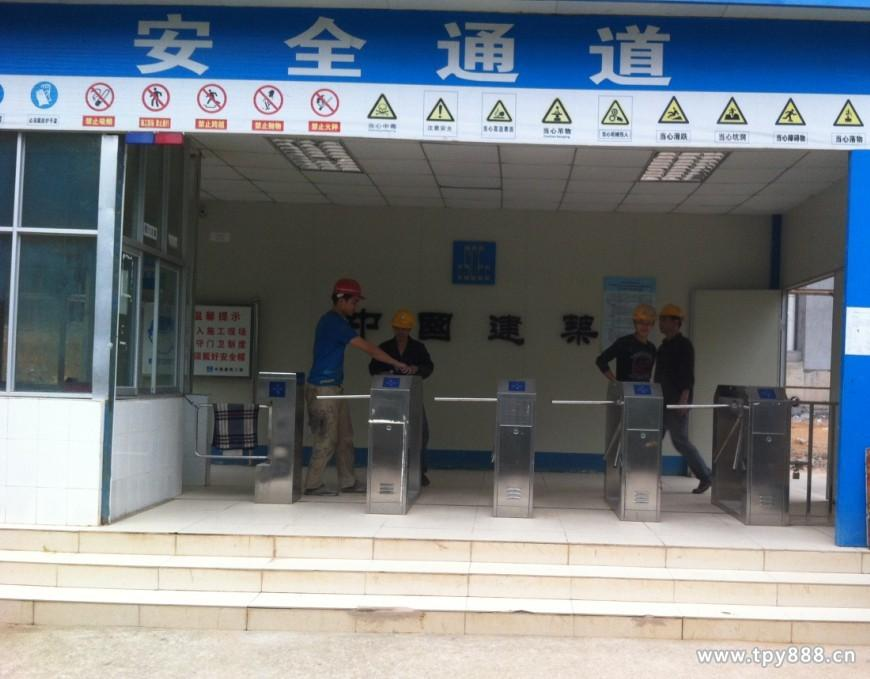helmet: (332, 278, 368, 302), (631, 305, 660, 325), (391, 311, 418, 332), (659, 305, 689, 323)
